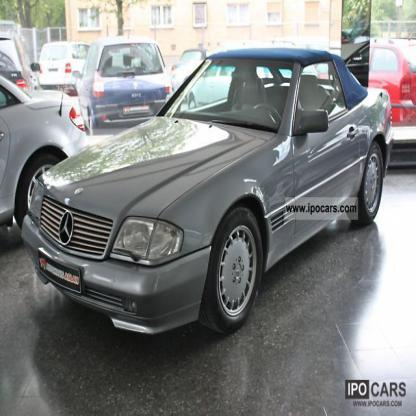car: (22, 50, 393, 336)
